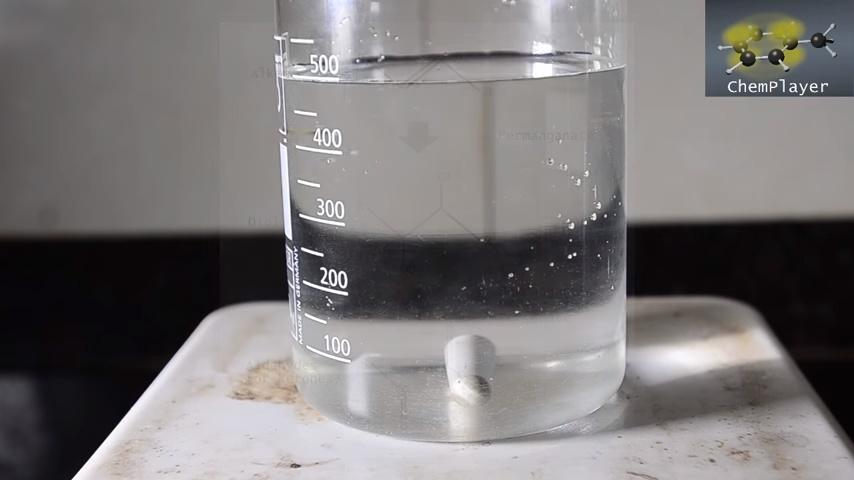Beaker: (267, 0, 644, 429)
